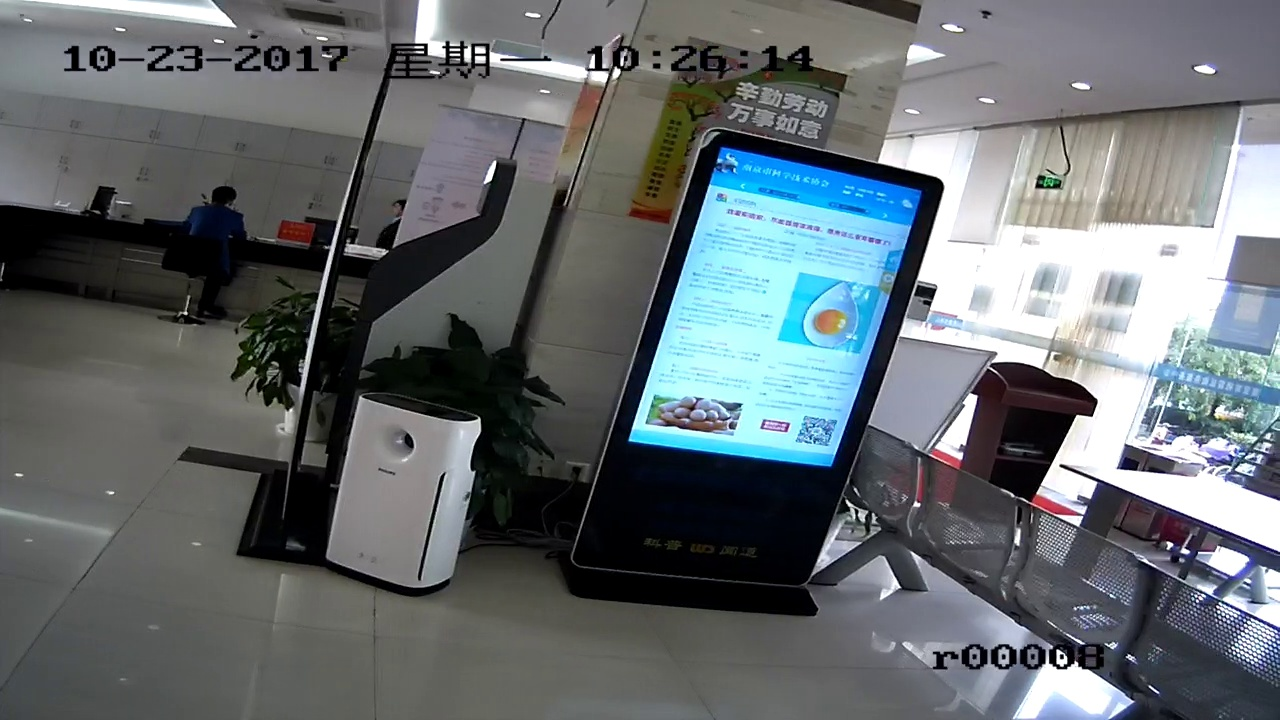chair: (845, 467, 953, 619)
desk: (982, 371, 1076, 495)
monitor: (702, 154, 888, 383)
person: (178, 179, 249, 250)
